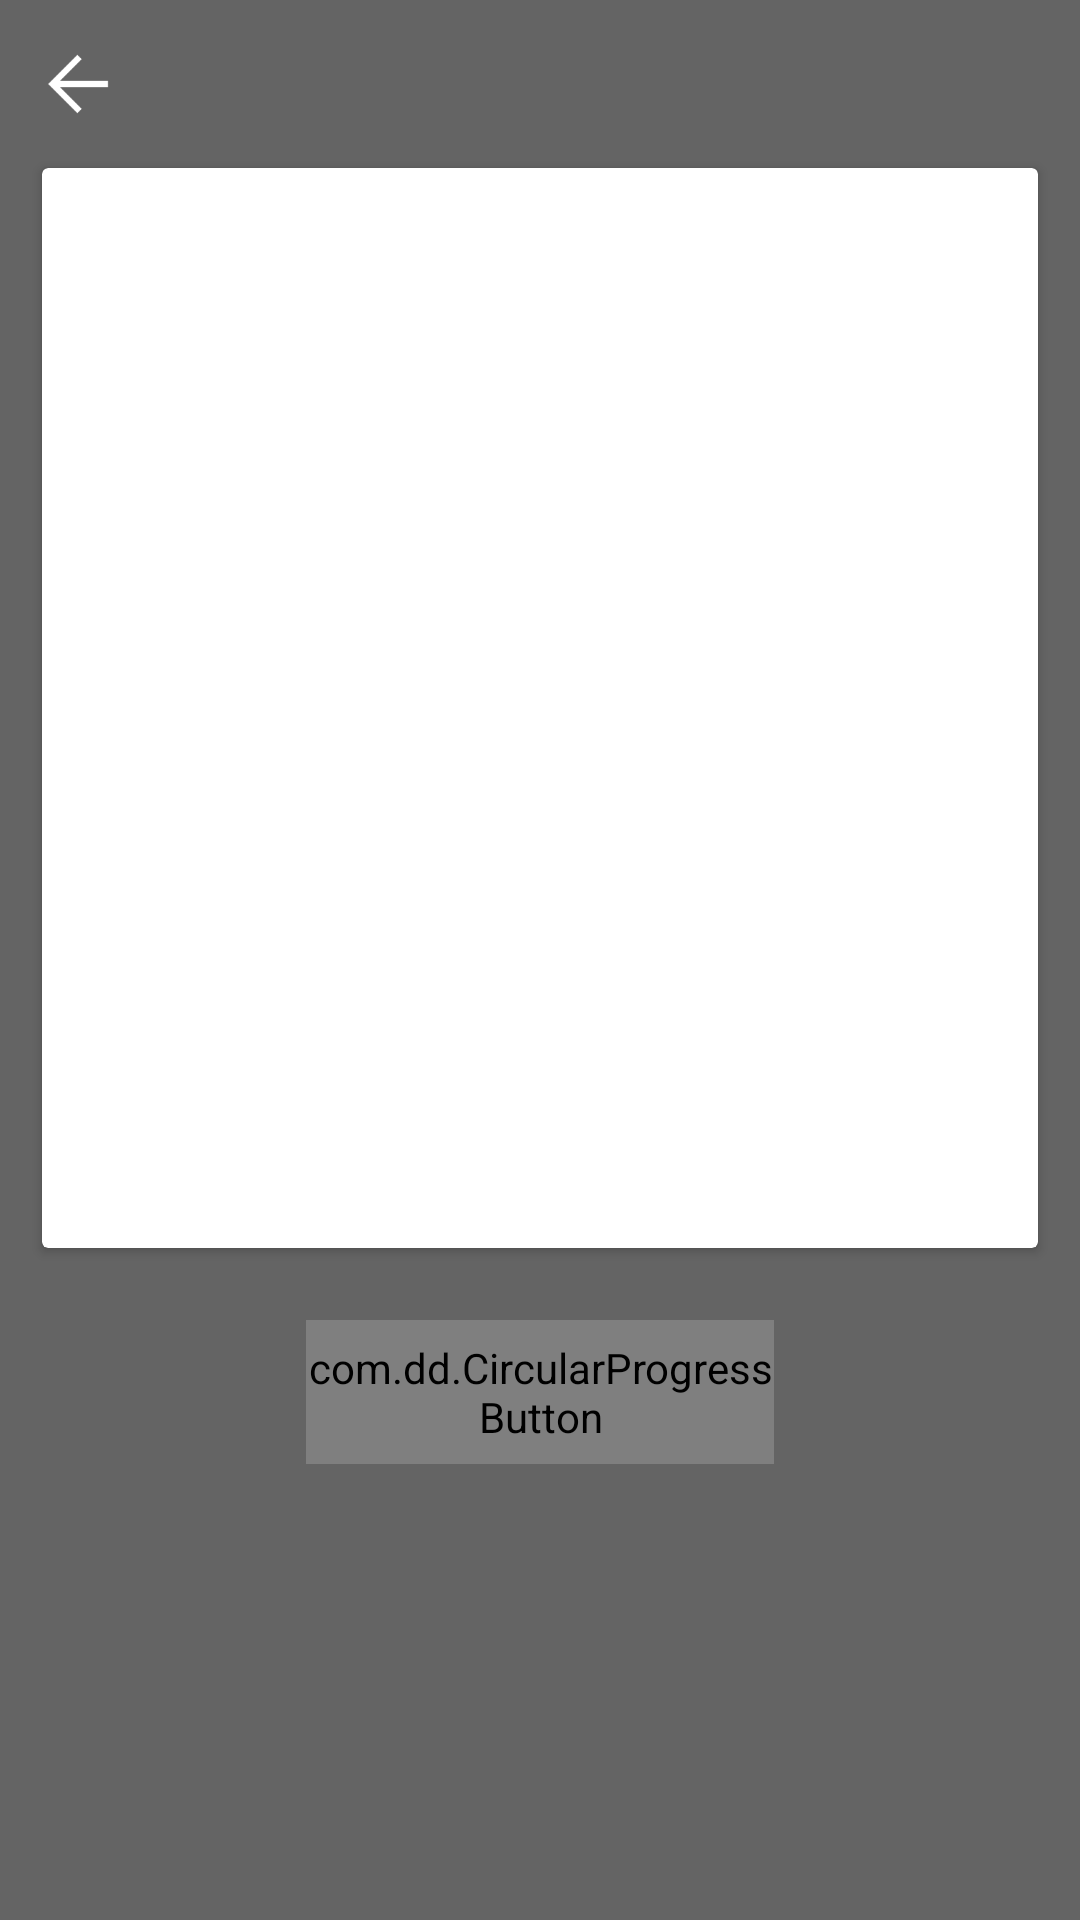

Icon click points for this 1080×1920 phone screenshot, format [x,y]:
back: [78,84]
